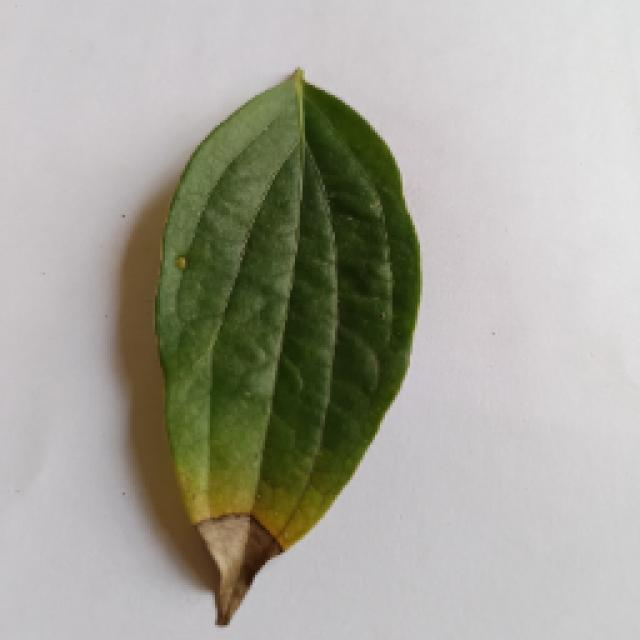footrot: (150, 70, 422, 625)
